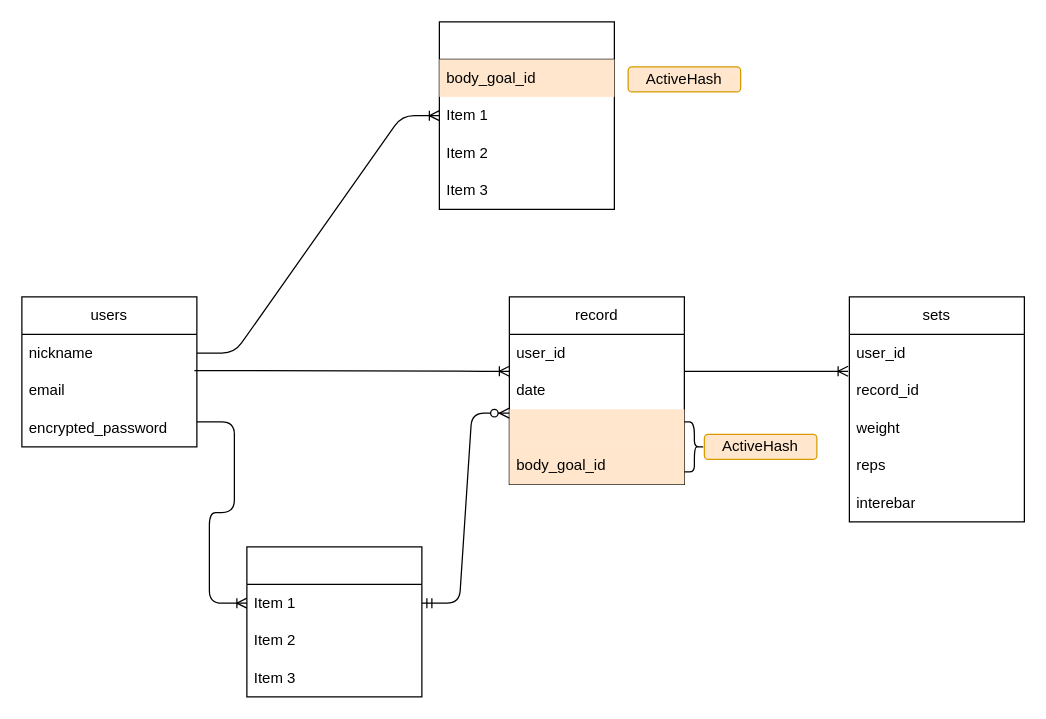
Image size: 1046x719. Some labels were removed from this diagram. Each missing label, with the box of its shape:
archive: (246, 546, 422, 697)
menu: (438, 21, 614, 209)
workout_id: (509, 409, 684, 446)
